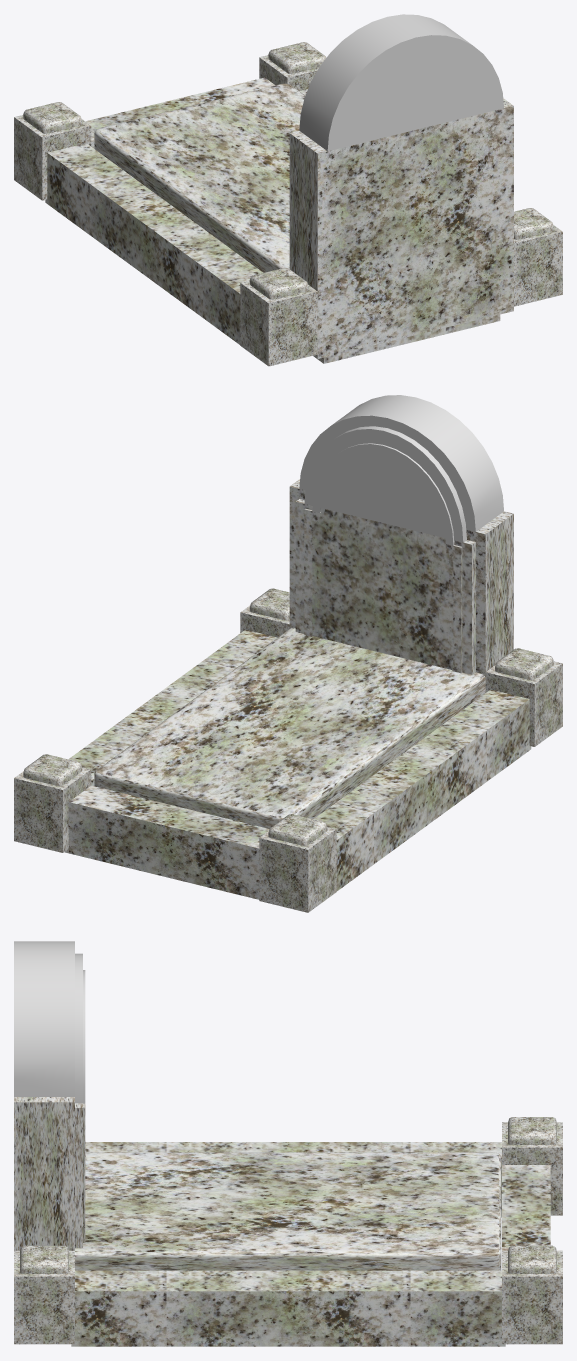
Rendered from tomb2.fbx.
3 views of the same model, one above another, from view 1: azimuth 30°, elevation 25°; view 2: azimuth 150°, elevation 25°; view 3: azimuth 270°, elevation 25° (orthographic). The views are drawn at different scales.
Visible parts, largest first — view 1: Conector_5, Cubo_3, Cubo_1, Conector_3, Conector, Conector_2, Conector_1, Cubo_2, Conector_6; view 2: Cubo_3, Conector_6, Cubo_1, Conector_5, Cubo_2, Conector, Cubo, Conector_1, tumbahueca, Conector_3, Conector_2; view 3: Cubo_3, Cubo, Conector_5, Conector_2, Conector_1, Cubo_1, Cubo_2, Conector, Conector_6, tumbahueca.
Boxes of the visible parts, box(x1,y1,x2,y2) form: Conector_5: box(289, 14, 513, 358); Cubo_3: box(94, 83, 304, 272); Cubo_1: box(45, 143, 263, 344); Conector_3: box(240, 267, 317, 366); Conector: box(14, 102, 91, 200); Conector_2: box(514, 208, 562, 306); Conector_1: box(259, 42, 326, 90); Cubo_2: box(85, 77, 274, 148); Conector_6: box(313, 314, 500, 363); Cubo_3: box(94, 628, 485, 828); Conector_6: box(295, 426, 475, 674); Cubo_1: box(313, 689, 531, 891); Conector_5: box(289, 395, 513, 676); Cubo_2: box(64, 785, 269, 899); Conector: box(259, 814, 336, 912); Cubo: box(68, 629, 277, 785); Conector_1: box(14, 754, 91, 852); tumbahueca: box(304, 443, 462, 673); Conector_3: box(485, 648, 562, 746); Conector_2: box(240, 588, 289, 637); Cubo_3: box(75, 1152, 501, 1270); Cubo: box(71, 1270, 505, 1346); Conector_5: box(14, 941, 74, 1250); Conector_2: box(14, 1245, 74, 1344); Conector_1: box(502, 1245, 562, 1344); Cubo_1: box(85, 1142, 501, 1217); Cubo_2: box(502, 1165, 550, 1250); Conector: box(502, 1117, 562, 1215); Conector_6: box(75, 953, 82, 1248); tumbahueca: box(83, 970, 85, 1242).
Bounding box in the file's own units: 300 × 300 × 450.
Materials: 2 (2 with a texture image).
